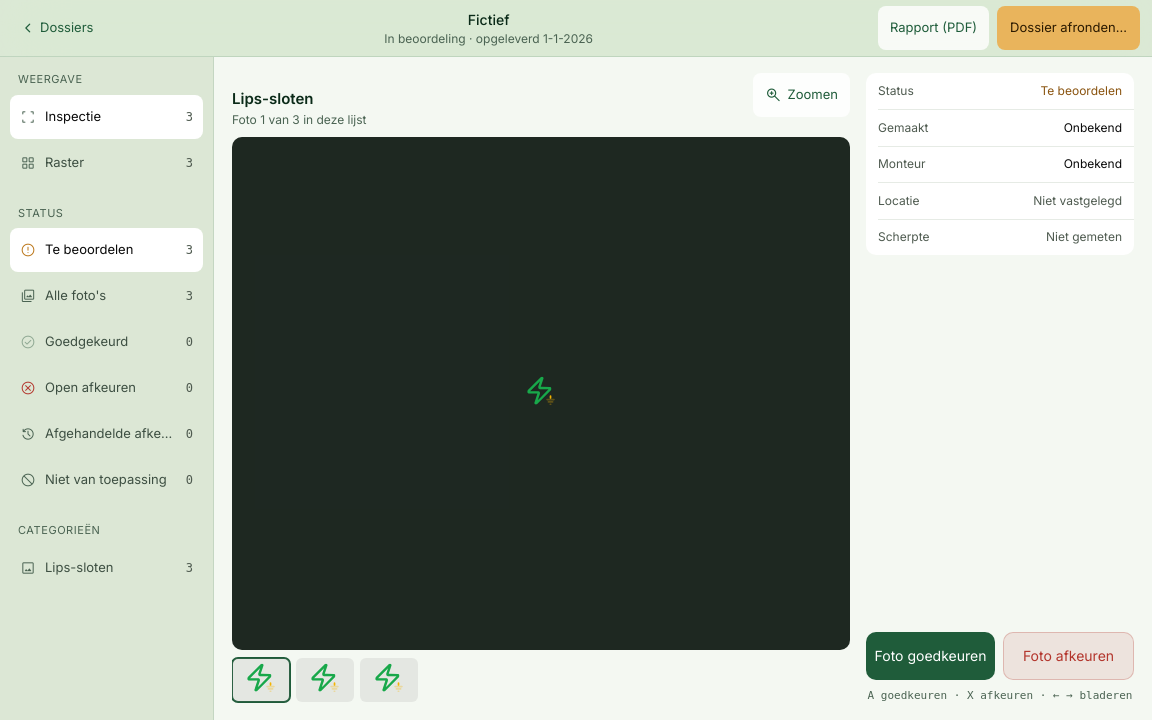
BeoordeelDossier › filter to zero photos removes old selection and actions
Later steps or results of the test are not shown.
Expected: the text "Foto 1 van 3 in deze lijst" is shown, [232,110,366,128]
What coordinates should you click on to do the following:
click the button "Goedgekeurd 0"
I would click on:
 (106, 342)
Its box is [10,320,203,364].
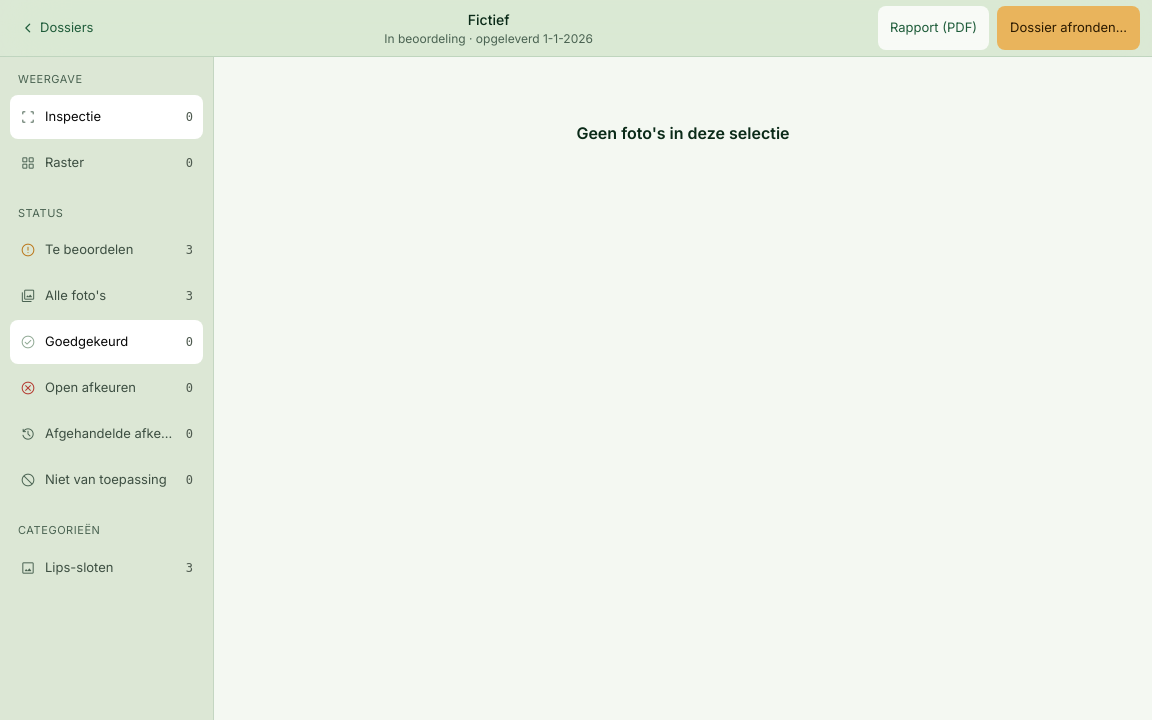
Now the text "Geen foto's in deze selectie" is shown, box [576,123,790,143]
Now the button "Foto goedkeuren" is gone
